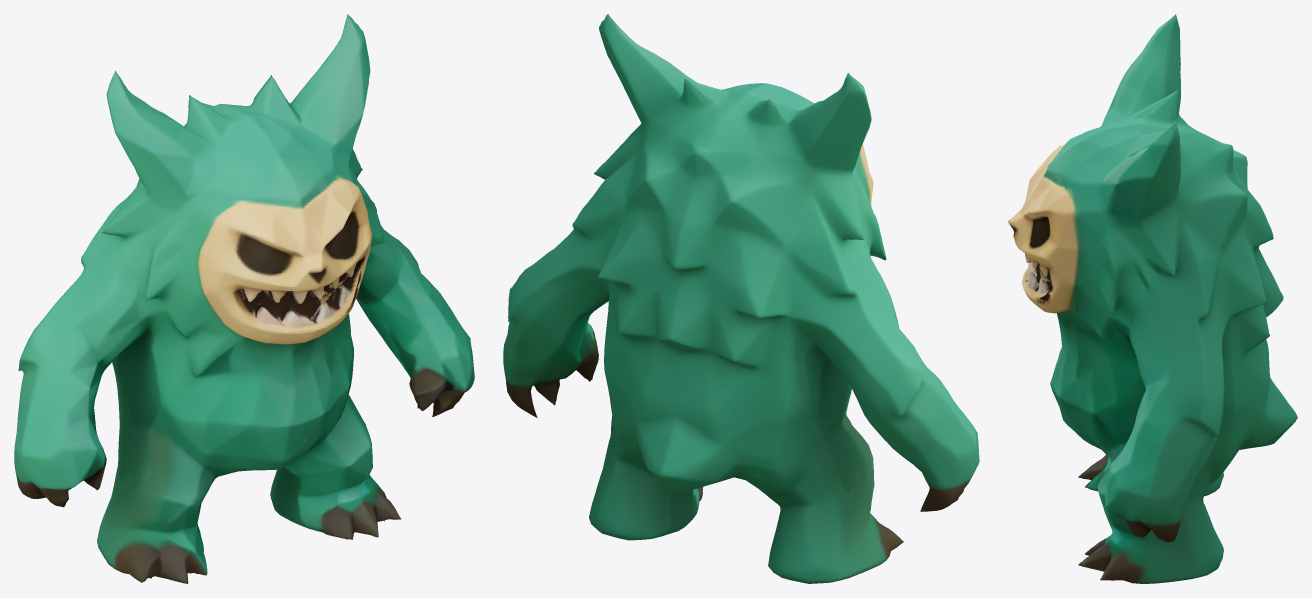
Rendered from base_basic_shaded.fbx.
The picture shows the model from 3 angles, left to right: view 1: azimuth 30°, elevation 25°; view 2: azimuth 150°, elevation 25°; view 3: azimuth 270°, elevation 25°; orthographic projection. The views are drawn at different scales.
Visible parts, largest first — view 1: model; view 2: model; view 3: model.
Part boxes in pixels (x1=…): model: x1=14, y1=14, x2=474, y2=583; model: x1=503, y1=14, x2=979, y2=583; model: x1=1008, y1=14, x2=1297, y2=583.
Bounding box in the file's own units: 186 × 190 × 109.
